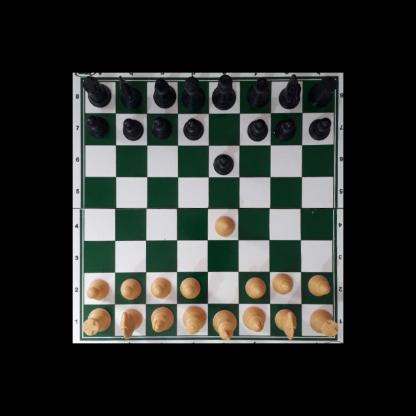black-bishop: (246, 76, 270, 107), (153, 77, 176, 108)
black-king: (211, 74, 236, 110)
black-knight: (119, 75, 142, 109), (279, 73, 300, 110)
black-pawn: (308, 116, 331, 140), (246, 118, 268, 141), (213, 151, 235, 174), (275, 116, 296, 140), (86, 115, 108, 137), (151, 116, 172, 139), (122, 116, 142, 140), (183, 116, 203, 140)
black-queen: (181, 76, 206, 109)
black-rook: (82, 75, 111, 106), (308, 76, 336, 107)
white-bishop: (150, 306, 173, 333), (243, 306, 265, 333)
white-king: (214, 308, 235, 340)
white-knight: (275, 308, 297, 340), (121, 308, 142, 339)
white-pawn: (85, 278, 110, 300), (307, 274, 330, 296), (149, 276, 171, 298), (272, 272, 293, 295), (180, 276, 201, 298), (244, 276, 265, 298), (213, 215, 235, 236), (120, 277, 141, 298)
white-queen: (183, 303, 205, 336)
white-rook: (82, 307, 111, 335), (309, 308, 338, 336)
